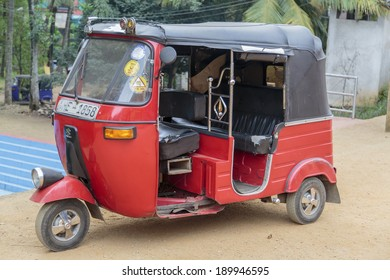threewheel: (29, 16, 341, 251)
